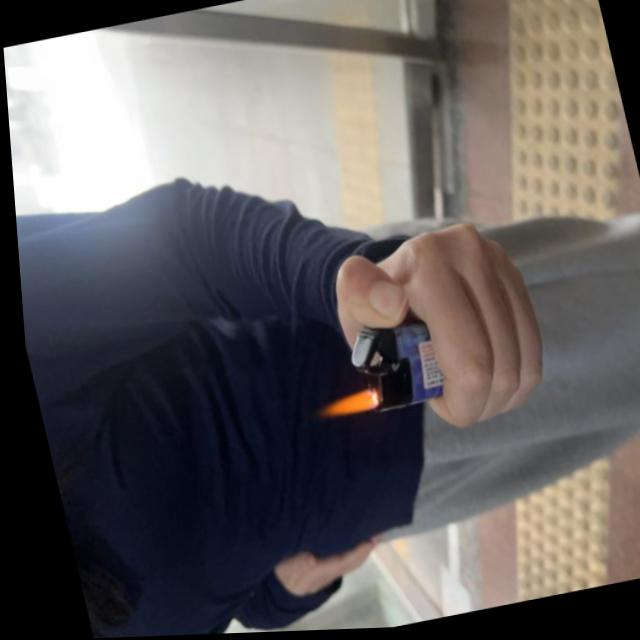Fire: (315, 389, 372, 426)
